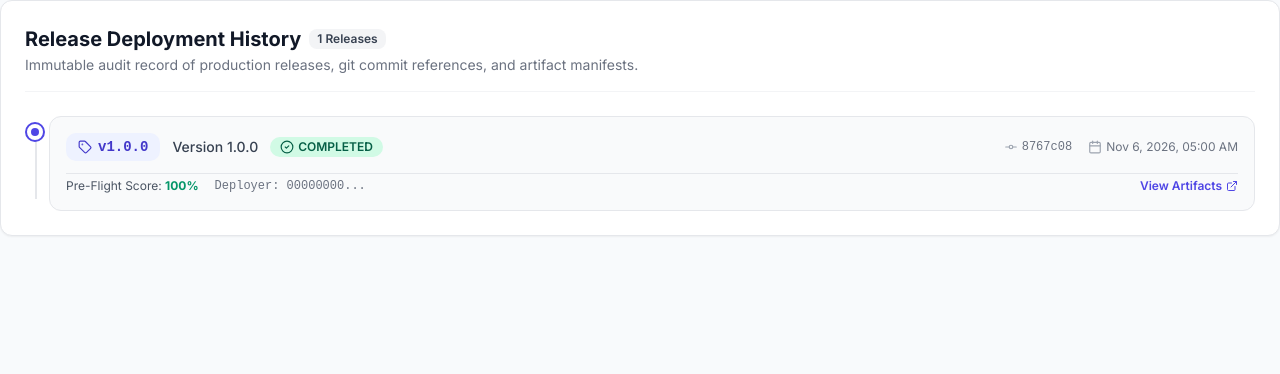
Test: Phase 3.7 Release Feature Components › ReleaseHistoryTimeline renders release items and expandable artifacts
Expected: the heading "Release Deployment History 1 Releases" is shown, [25,27,386,51]
Expected: the text "v1.0.0" is shown, [66,133,160,161]
Click the button "View Artifacts" at (1189, 186), box [1140,178,1238,194]
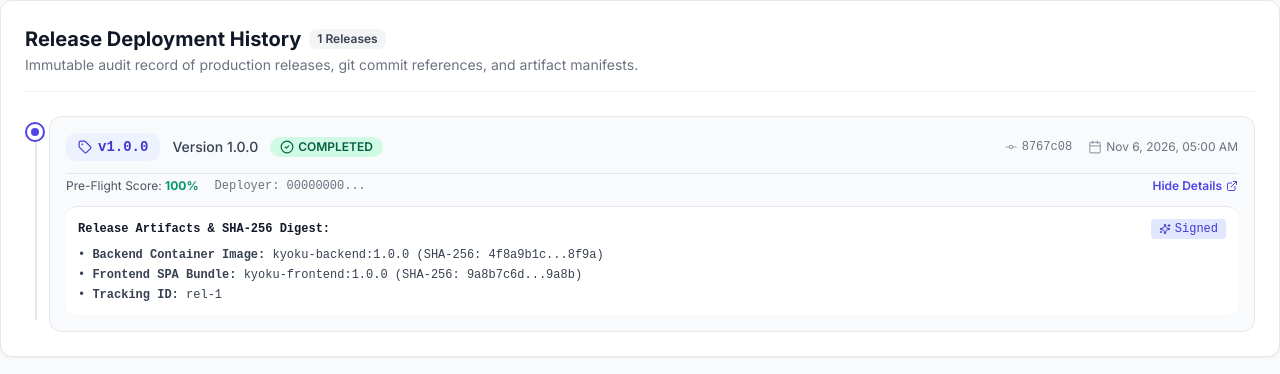
Now the text "Backend Container Image:" is shown, box [92,248,265,262]
Now the text "Frontend SPA Bundle:" is shown, box [92,268,236,282]
